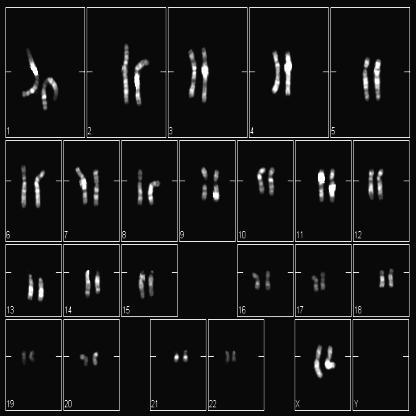1: (21, 44, 40, 98), (40, 76, 59, 110)
10: (266, 166, 277, 198), (256, 166, 266, 197)
11: (328, 168, 337, 205), (318, 166, 326, 204)
12: (376, 167, 386, 202), (368, 166, 375, 204)
13: (37, 276, 45, 306), (27, 271, 34, 302)
14: (83, 268, 92, 299), (94, 268, 102, 298)
15: (138, 268, 146, 300), (148, 268, 155, 300)
16: (250, 270, 260, 291), (264, 268, 272, 292)
17: (318, 270, 326, 294), (310, 274, 319, 294)
18: (386, 268, 396, 290), (377, 268, 386, 290)
19: (28, 346, 36, 364), (21, 348, 28, 366)
2: (132, 56, 148, 106), (121, 41, 132, 106)
20: (80, 352, 90, 370), (91, 349, 99, 367)
21: (180, 348, 190, 365), (172, 350, 180, 366)
22: (231, 348, 238, 366), (224, 350, 231, 366)
3: (198, 46, 210, 104), (186, 48, 198, 100)
4: (270, 50, 282, 96), (283, 49, 294, 98)
5: (362, 54, 370, 102), (374, 56, 382, 102)
6: (35, 168, 46, 209), (19, 164, 28, 210)
7: (74, 164, 88, 208), (92, 168, 100, 208)
8: (136, 166, 145, 208), (148, 178, 160, 206)
9: (200, 164, 209, 203), (212, 167, 221, 202)
X: (314, 342, 324, 382), (325, 341, 337, 372)
